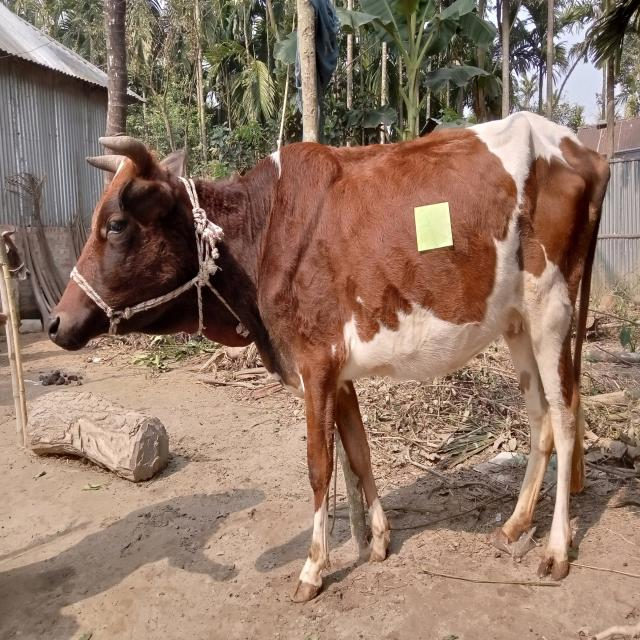badan_sapi: (296, 141, 608, 394)
sapi: (42, 109, 611, 613)
